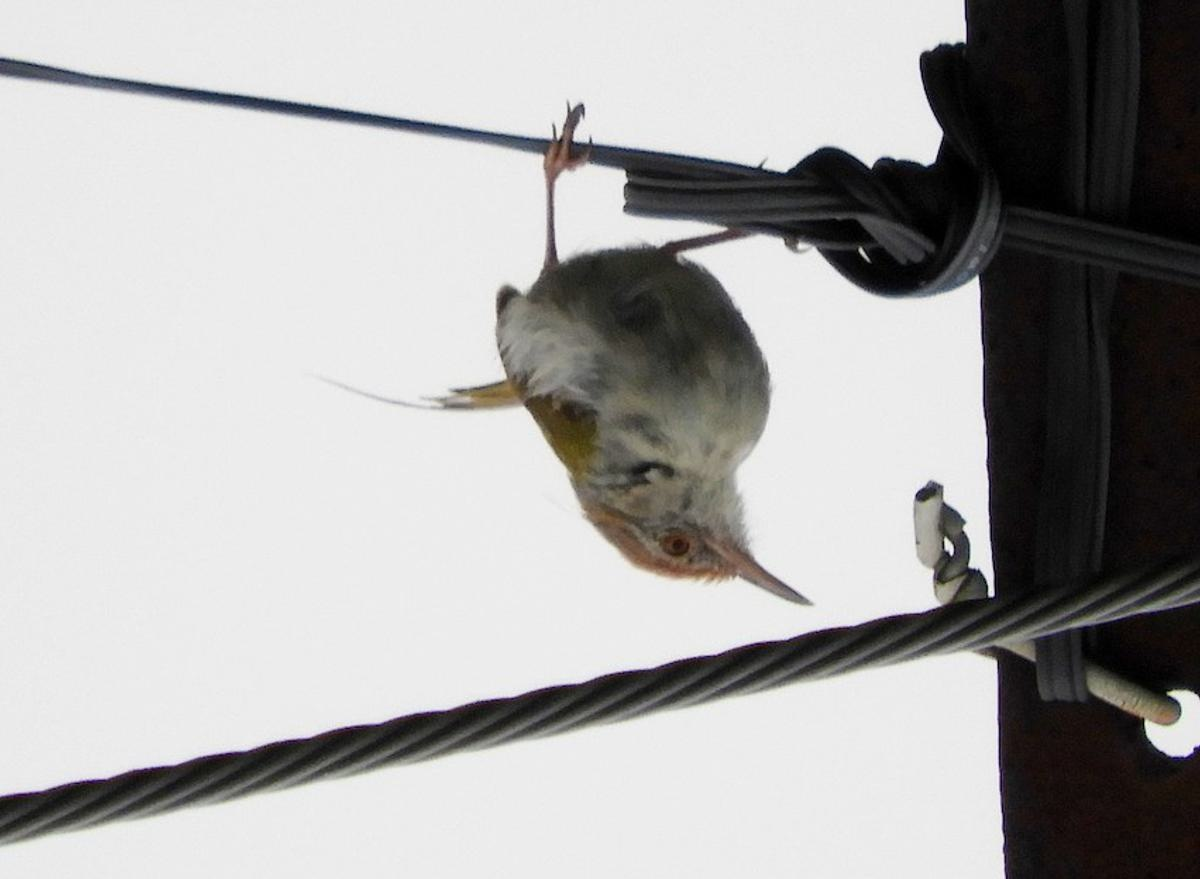tailorbird: (420, 101, 854, 637)
